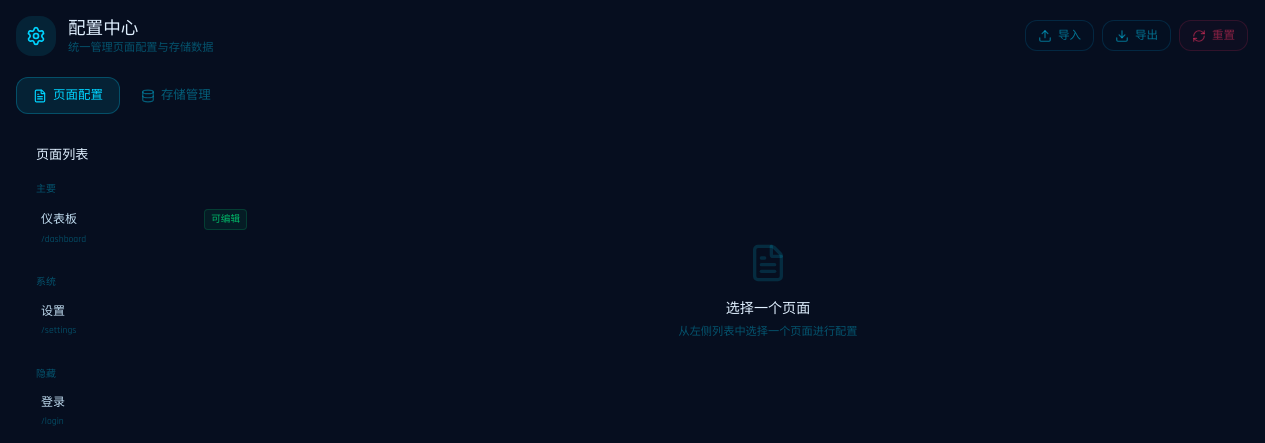
Scenario: ConfigCenter › storage manager shows yyc3-prefixed keys
Click the button "存储管理" at (176, 96), box [124,77,228,114]
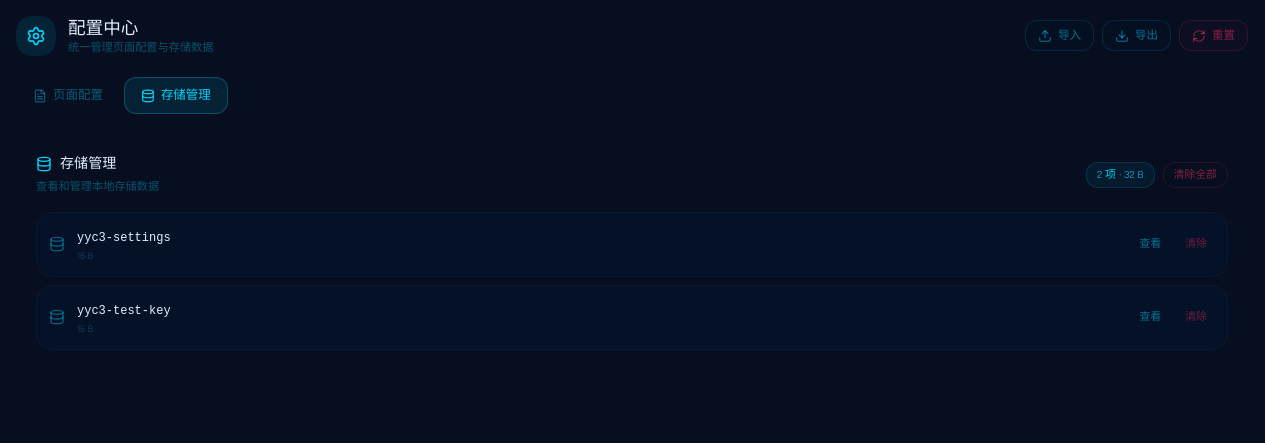
expect the text "yyc3-test-key" is shown: met, box [77,304,171,318]
expect the text "yyc3-settings" is shown: met, box [77,231,171,245]
